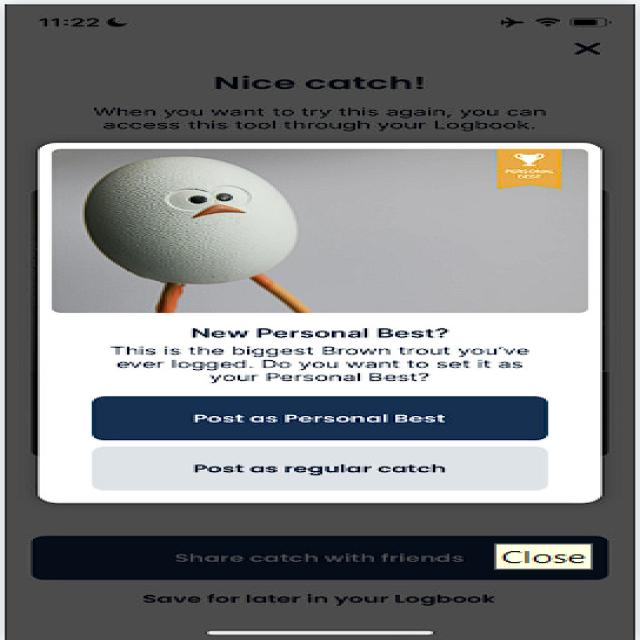button: (69, 321, 572, 384), (56, 442, 578, 498), (62, 389, 578, 444)
image: (33, 142, 604, 311)
